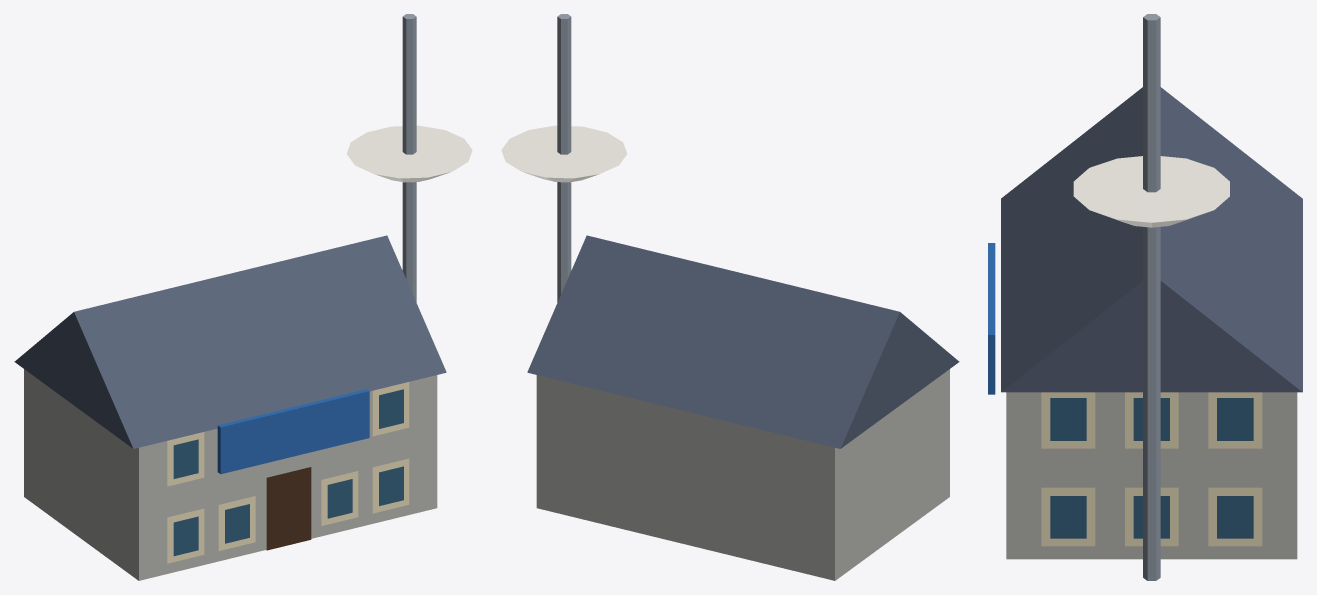
File: building_broadcast_center.fbx
3 renders of one model, left to right at view 1: azimuth 30°, elevation 25°; view 2: azimuth 150°, elevation 25°; view 3: azimuth 270°, elevation 25°, orthographic. The views are drawn at different scales.
Parts seen in each view (by area): view 1: building_broadcast_center; view 2: building_broadcast_center; view 3: building_broadcast_center.
Boxes of the visible parts, <box> form: building_broadcast_center: <box>14,14,472,580</box>; building_broadcast_center: <box>501,14,959,580</box>; building_broadcast_center: <box>988,14,1302,580</box>.
Bounding box in the file's own units: 78.5 × 85 × 43.25.
